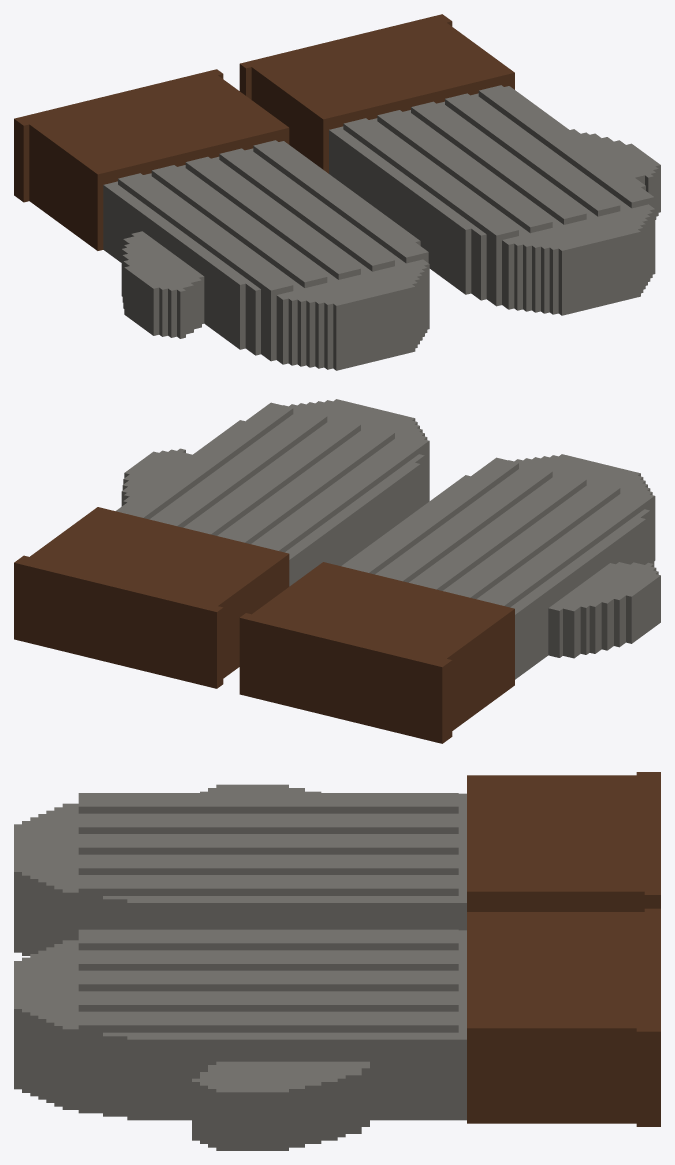
File: gambeson_gloves_wool.glb
3 renders of one model, top to bottom at view 1: azimuth 30°, elevation 25°; view 2: azimuth 150°, elevation 25°; view 3: azimuth 270°, elevation 25°, orthographic. The views are drawn at different scales.
Visible parts, largest first — view 1: gambeson_gloves_wool:compound; view 2: gambeson_gloves_wool:compound; view 3: gambeson_gloves_wool:compound.
Boxes of the visible parts, box(x1,y1,x2,y2) form: gambeson_gloves_wool:compound: box(14, 14, 660, 370); gambeson_gloves_wool:compound: box(14, 399, 660, 743); gambeson_gloves_wool:compound: box(14, 772, 660, 1150).
Bounding box in the file's own units: 0.36 × 0.052 × 0.32.
